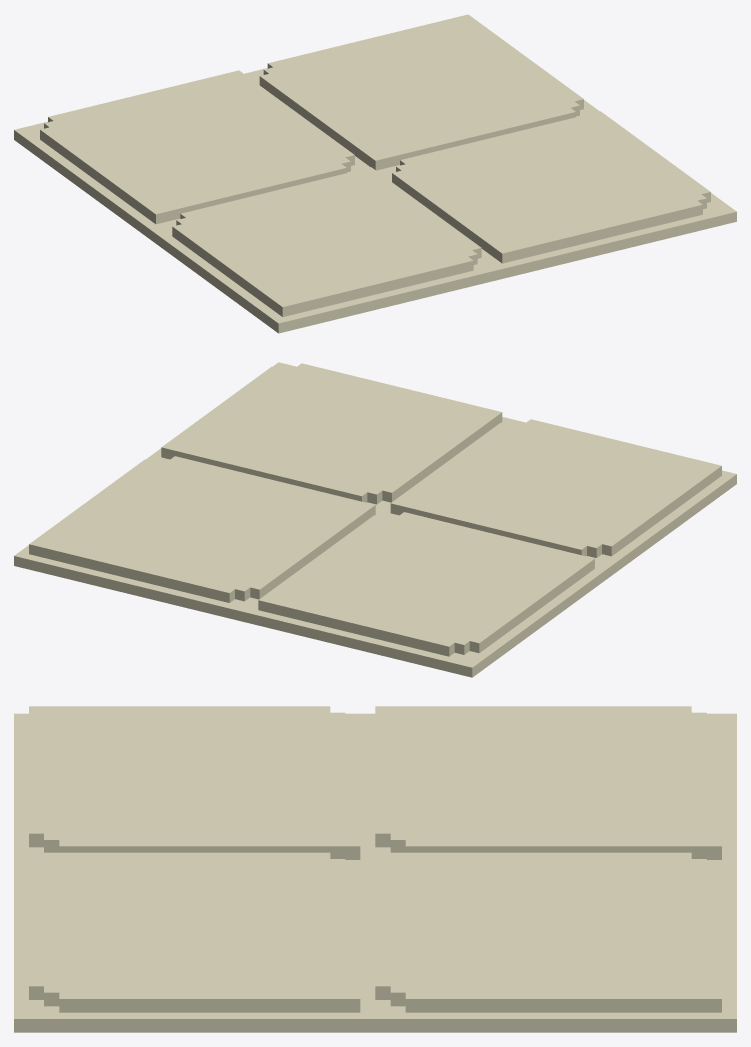
The model's file is pokemon-center-floor-1.obj.
3 renders of one model, top to bottom at view 1: azimuth 30°, elevation 25°; view 2: azimuth 150°, elevation 25°; view 3: azimuth 270°, elevation 25°, orthographic. The views are drawn at different scales.
Size of the model in its own units: 4.8 by 0.2 by 4.8.
Materials: 1 (1 with a texture image).
